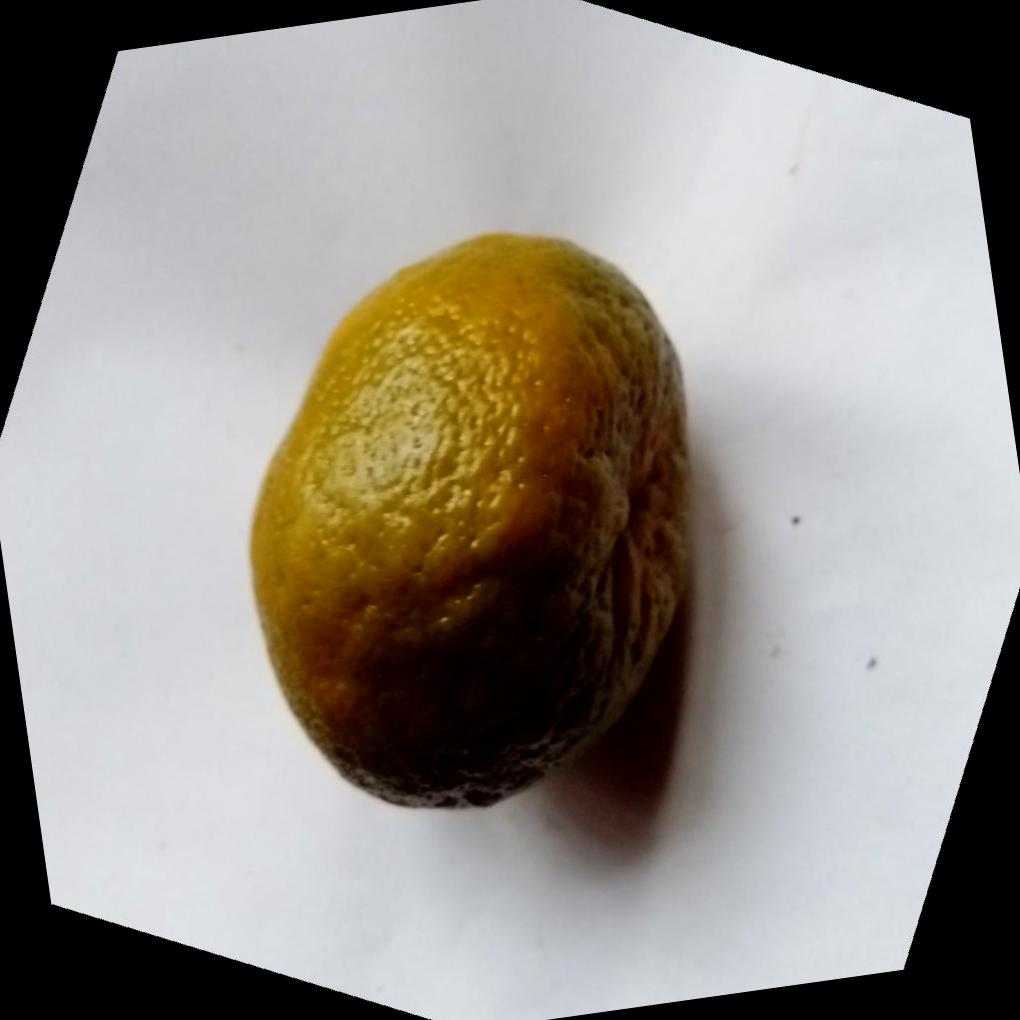FreshOrange: (244, 225, 696, 809)
